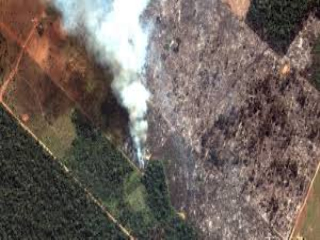smoke: (87, 12, 170, 177)
